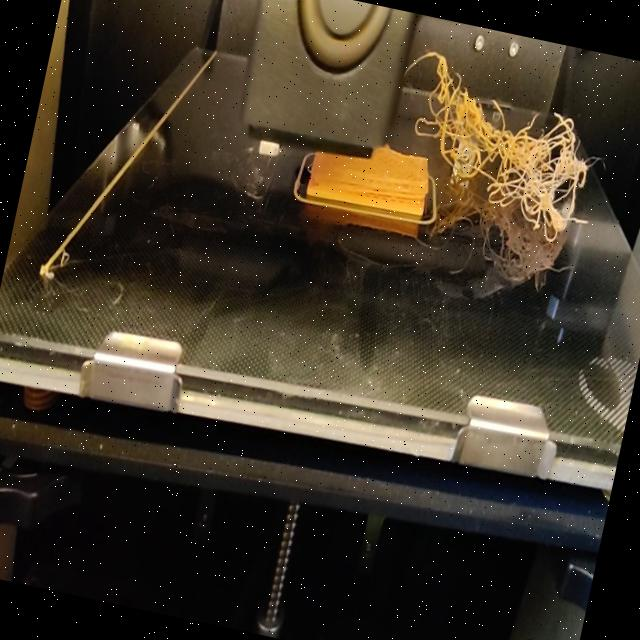spaghetti: (388, 44, 618, 242)
